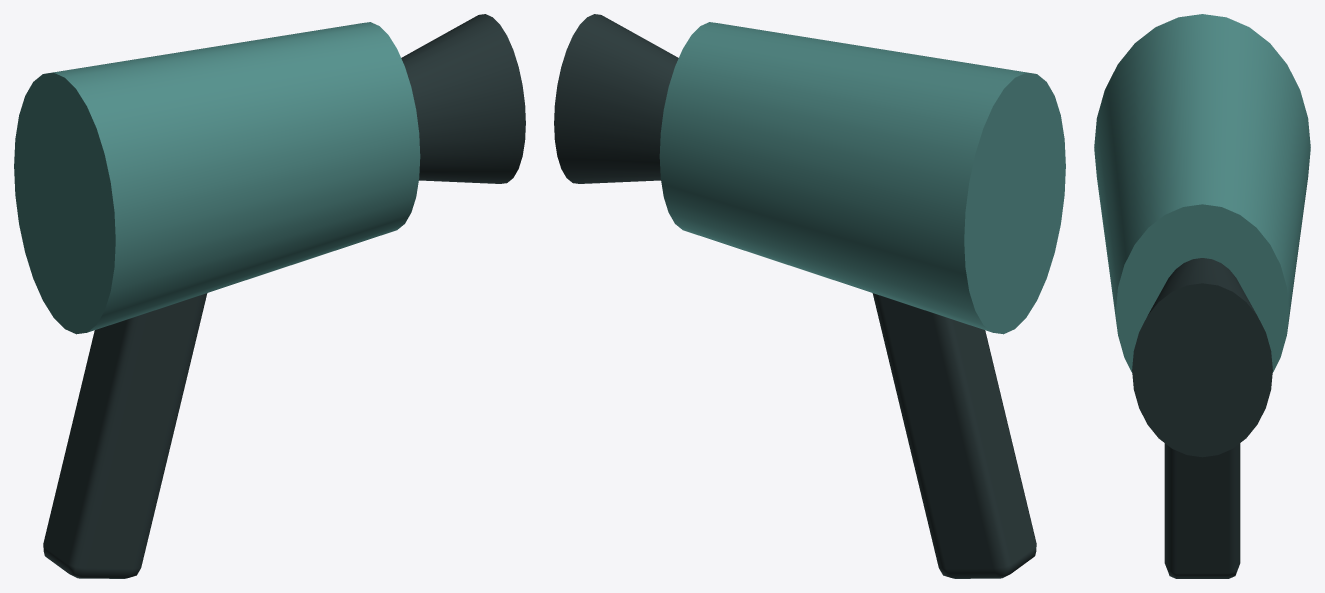
Rendered from wp-seche-cheveux.glb.
The picture shows the model from 3 angles, left to right: view 1: azimuth 30°, elevation 25°; view 2: azimuth 150°, elevation 25°; view 3: azimuth 270°, elevation 25°; orthographic projection. The views are drawn at different scales.
Visible parts, largest first — view 1: wp-seche-cheveux; view 2: wp-seche-cheveux; view 3: wp-seche-cheveux.
Part boxes in pixels (left/top/right/bottom): wp-seche-cheveux: left=14, top=14, right=525, bottom=578; wp-seche-cheveux: left=554, top=14, right=1065, bottom=578; wp-seche-cheveux: left=1094, top=14, right=1310, bottom=578.
Bounding box in the file's own units: 0.1985 × 0.2185 × 0.08.
